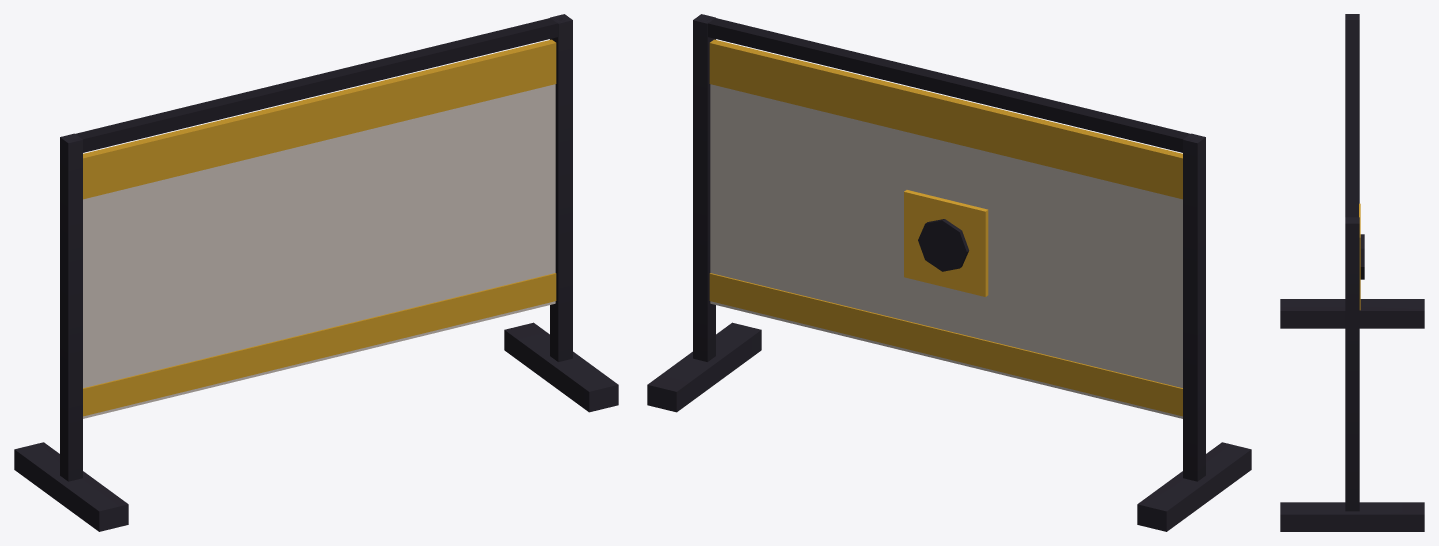
The picture shows the model from 3 angles, left to right: view 1: azimuth 30°, elevation 25°; view 2: azimuth 150°, elevation 25°; view 3: azimuth 270°, elevation 25°; orthographic projection. The views are drawn at different scales.
Visible parts, largest first — view 1: body_pal_picketWhite, body_pal_schoolBusYellow, body_pal_uiDark; view 2: body_pal_picketWhite, body_pal_schoolBusYellow, body_pal_uiDark; view 3: body_pal_uiDark, body_pal_schoolBusYellow.
Boxes of the visible parts, box(x1,y1,x2,y2) form: body_pal_picketWhite: box(83, 84, 555, 418); body_pal_schoolBusYellow: box(83, 39, 556, 416); body_pal_uiDark: box(14, 14, 618, 531); body_pal_picketWhite: box(710, 84, 1182, 418); body_pal_schoolBusYellow: box(709, 39, 1182, 416); body_pal_uiDark: box(647, 14, 1251, 531); body_pal_uiDark: box(1280, 14, 1424, 531); body_pal_schoolBusYellow: box(1359, 203, 1360, 310).
Size of the model in its own units: 3.18 by 2.1 by 0.9.
